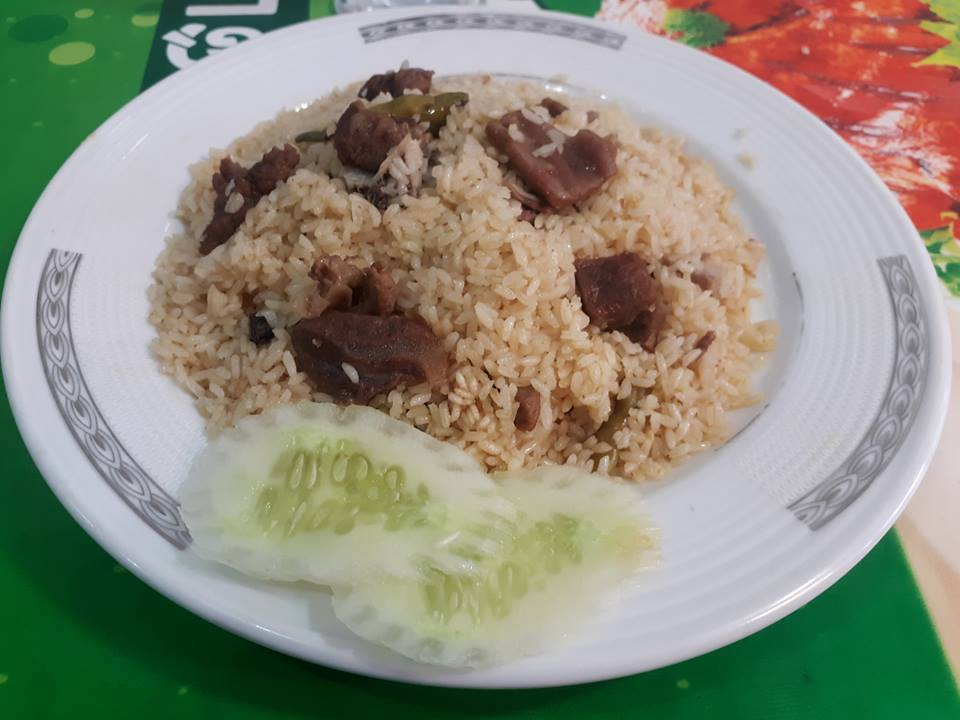tehari: (148, 63, 797, 486)
